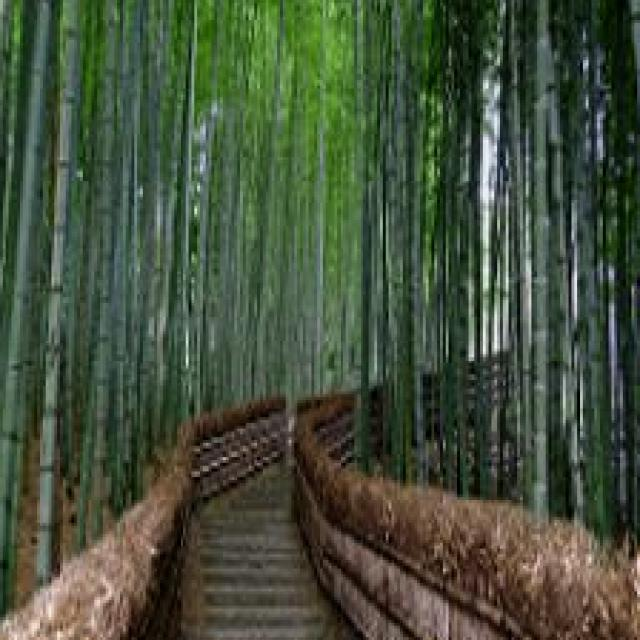upstair: (164, 478, 369, 640)
